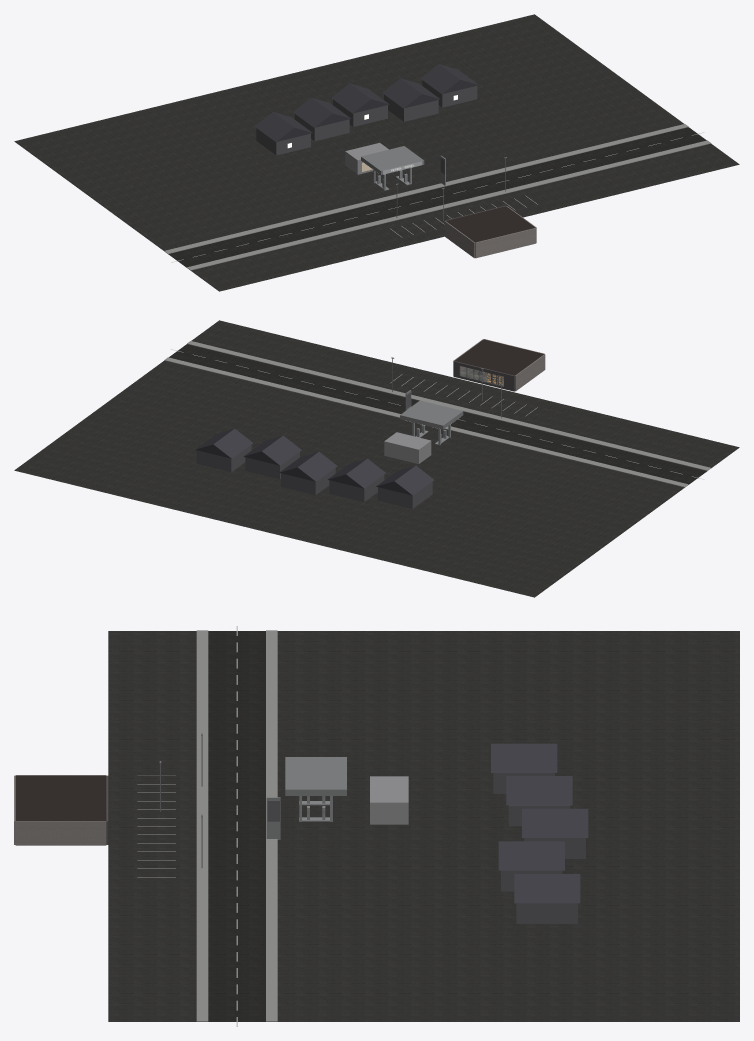
The model's file is checkout-set.glb.
The picture shows the model from 3 angles, top to bottom: view 1: azimuth 30°, elevation 25°; view 2: azimuth 150°, elevation 25°; view 3: azimuth 270°, elevation 25°; orthographic projection. The views are drawn at different scales.
Visible parts, largest first — view 1: outside-ground, houses-beyond, petrol-station, ceiling, shop; view 2: outside-ground, houses-beyond, petrol-station, ceiling, shop; view 3: outside-ground, houses-beyond, petrol-station, ceiling, shop.
Part boxes in pixels (bbox=[...]): outside-ground: bbox=[14, 14, 739, 291]; houses-beyond: bbox=[254, 64, 478, 155]; petrol-station: bbox=[345, 142, 424, 190]; ceiling: bbox=[446, 206, 535, 242]; shop: bbox=[444, 205, 536, 258]; outside-ground: bbox=[14, 320, 739, 597]; houses-beyond: bbox=[195, 428, 433, 508]; petrol-station: bbox=[384, 400, 463, 463]; ceiling: bbox=[454, 339, 544, 375]; shop: bbox=[453, 339, 545, 391]; outside-ground: bbox=[108, 626, 739, 1026]; houses-beyond: bbox=[491, 743, 588, 923]; petrol-station: bbox=[285, 757, 408, 824]; ceiling: bbox=[15, 775, 106, 821]; shop: bbox=[14, 775, 108, 845].
Bounding box in the file's own units: 123 × 7.62 × 94.2.
113 materials, 71 textured.
